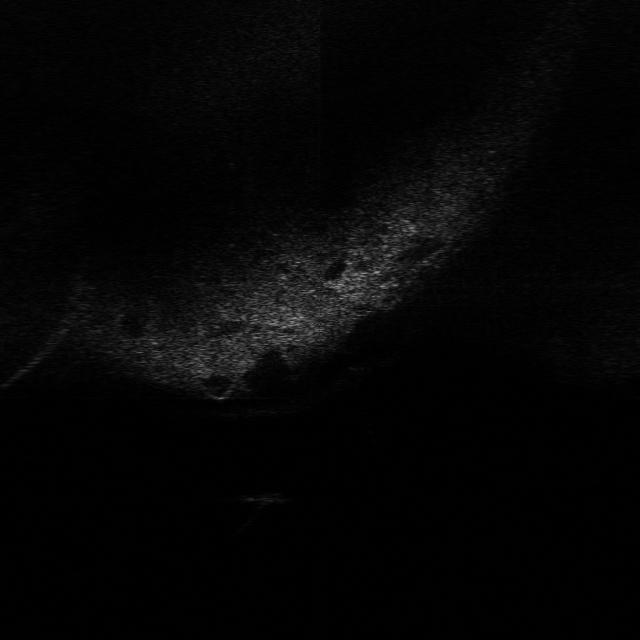ball: (338, 341, 383, 375)
cube: (228, 482, 292, 508)
